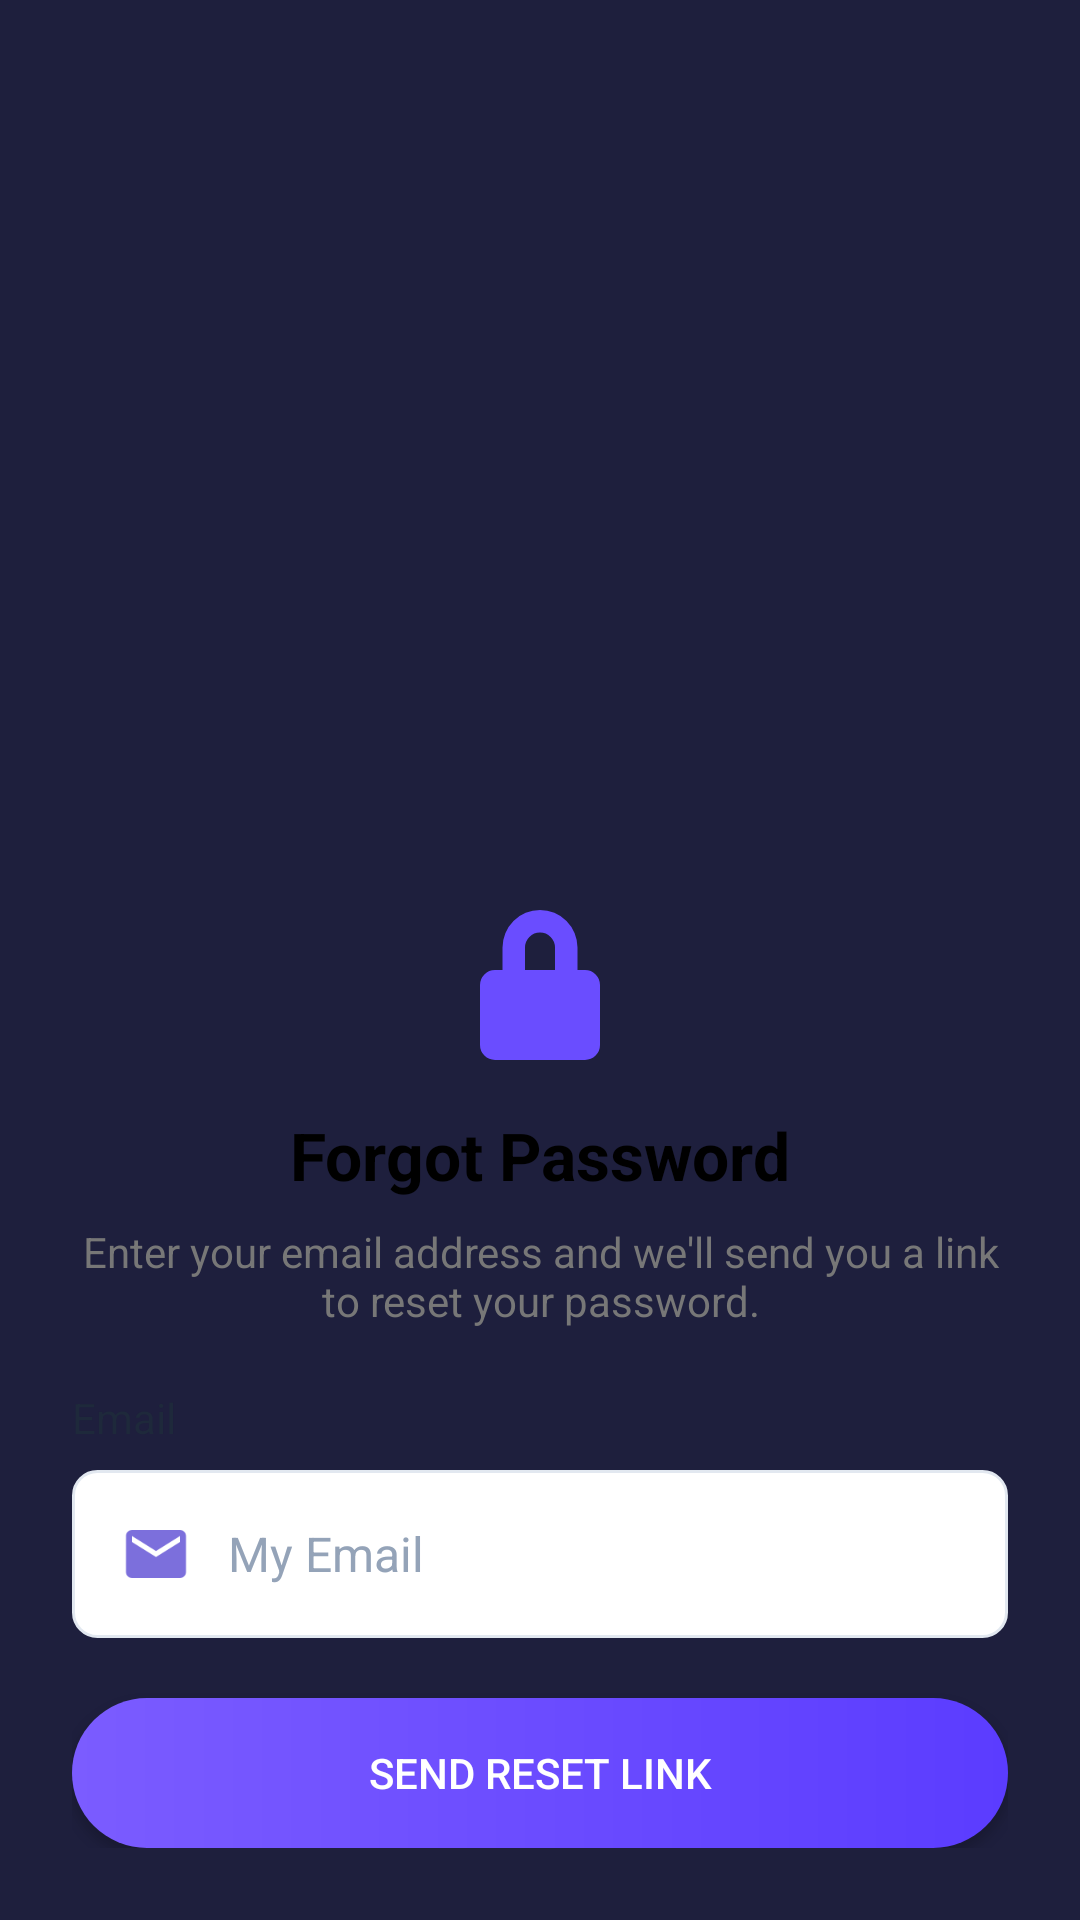

Screen size 1080px×1920px. Icon name, then its center in pixels as (x,y):
lock: (540,985)
